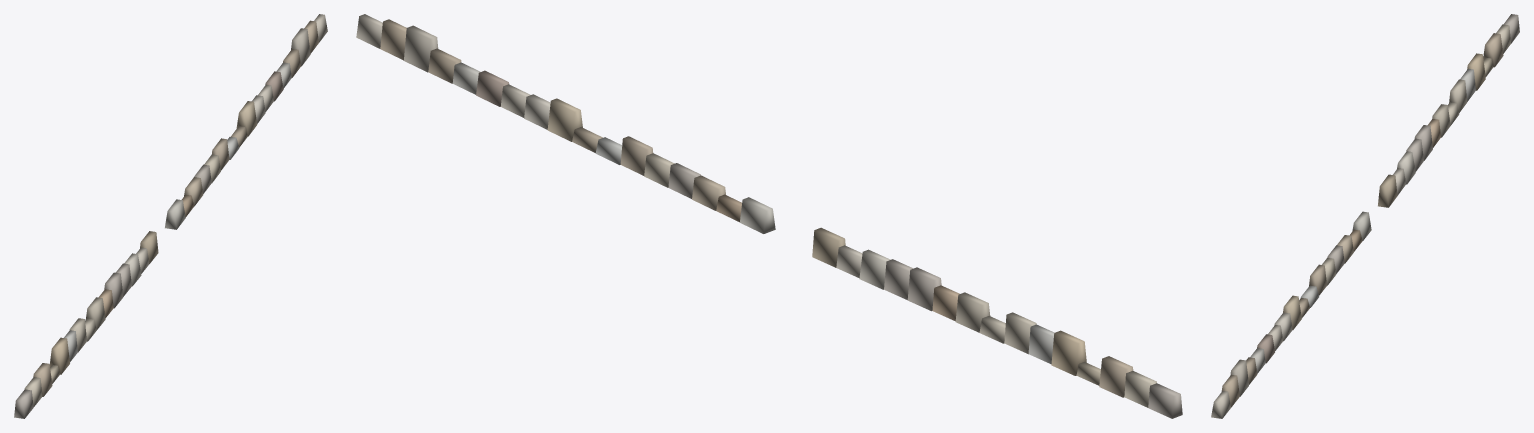
File: farm_7_13_collision.glb
The picture shows the model from 3 angles, left to right: view 1: azimuth 90°, elevation 25°; view 2: azimuth 150°, elevation 25°; view 3: azimuth 270°, elevation 25°; orthographic projection. The views are drawn at different scales.
Visible parts, largest first — view 1: geometry_0; view 2: geometry_0; view 3: geometry_0.
Boxes of the visible parts, x1,y1,x2,y2 form: geometry_0: [14, 14, 327, 418]; geometry_0: [356, 14, 1182, 418]; geometry_0: [1211, 14, 1519, 418].
Bounding box in the file's own units: 50.42 × 1.77 × 17.07.
